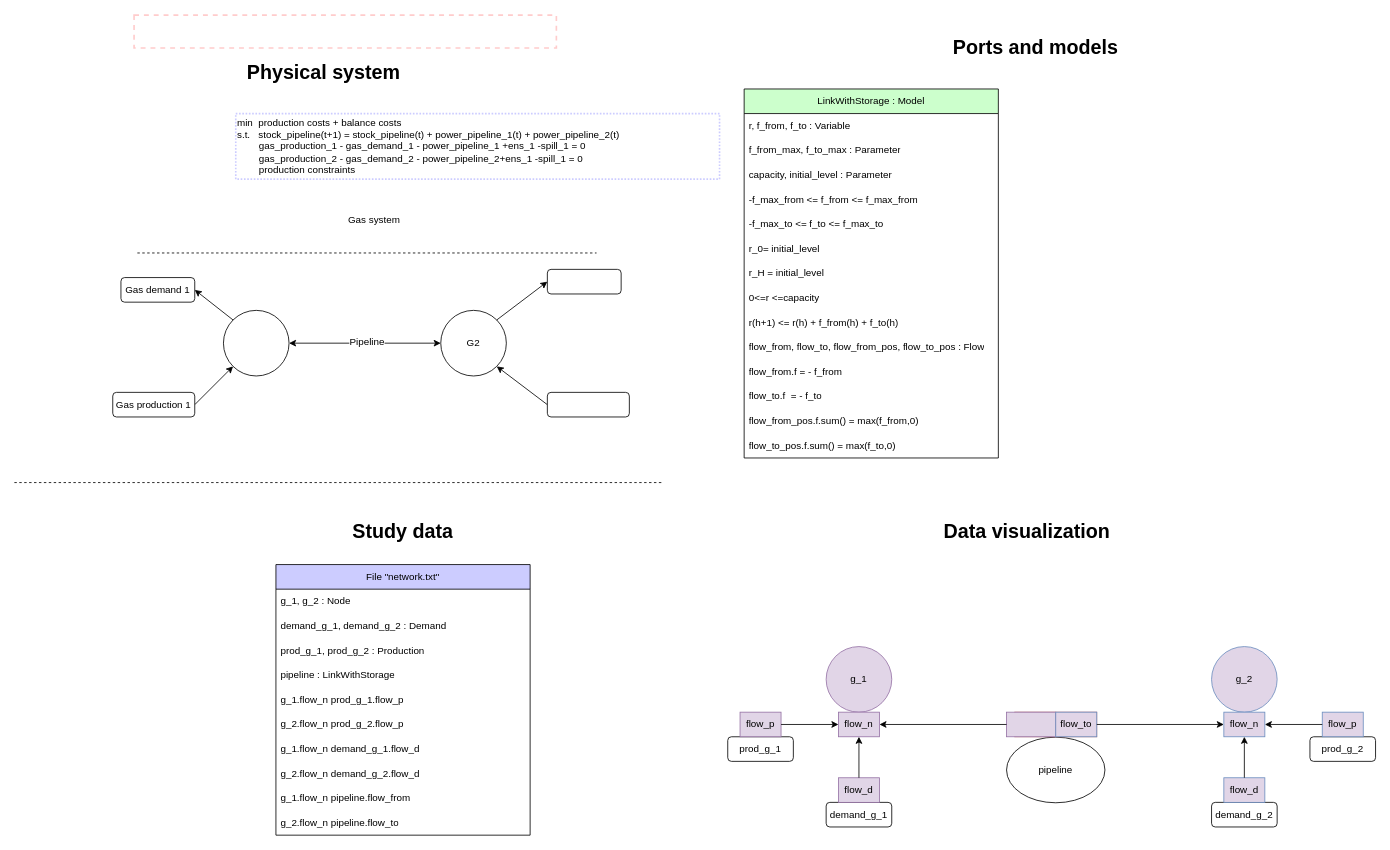
This 1390x850 diagram has some shape labels left out. The shapes that lost their labels are listed below. From the top down, each one's centre as x and y in pixels, then its label:
(345,31): We represent a pipeline with a stock capacity.
(584,281): Gas demand 2
(256,343): G1
(588,404): Gas production 2
(1031,724): flow_from
